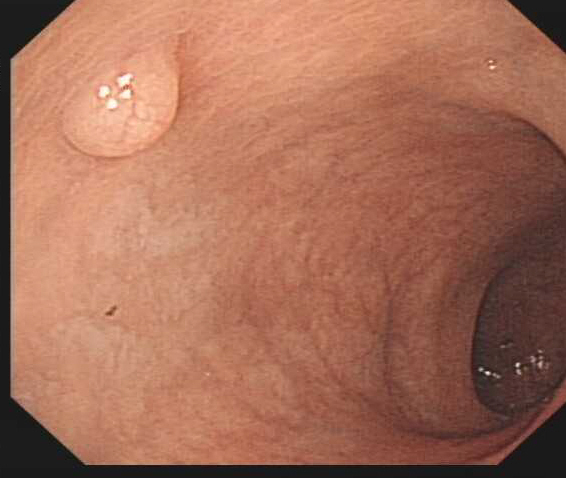adenoma: (62, 49, 182, 162)
